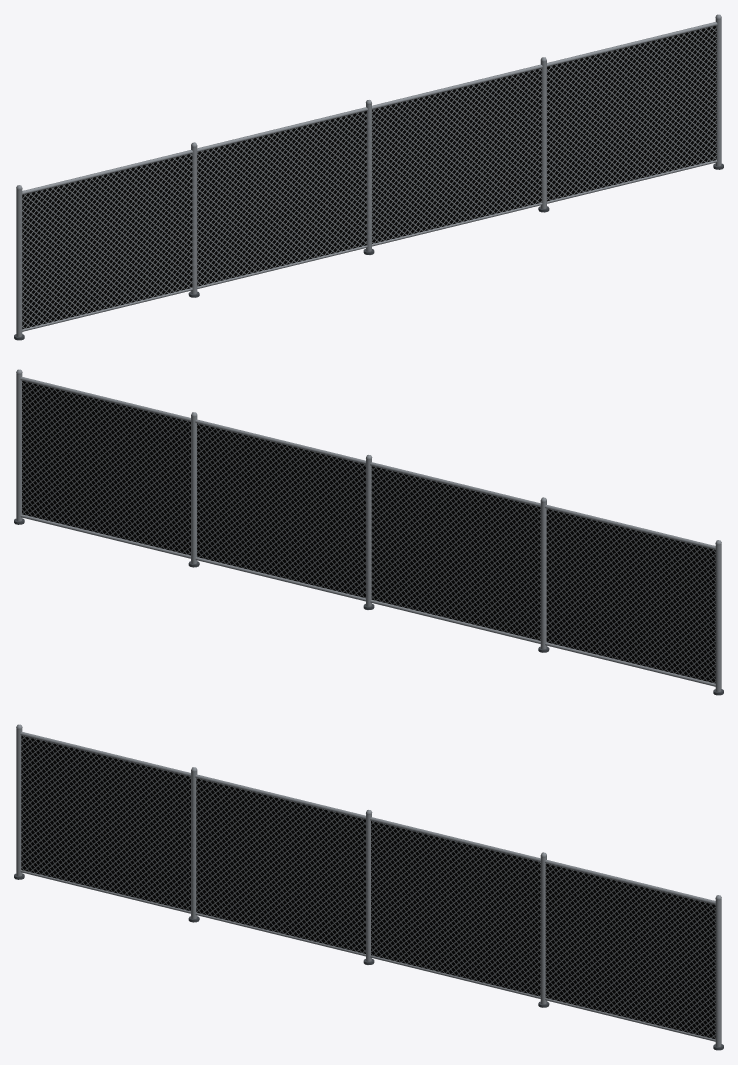
The model's file is alambrado.glb.
The picture shows the model from 3 angles, top to bottom: view 1: azimuth 30°, elevation 25°; view 2: azimuth 150°, elevation 25°; view 3: azimuth 330°, elevation 25°; orthographic projection.
Visible parts, largest first — view 1: Tela, Travessas, Postes; view 2: Tela, Travessas, Postes; view 3: Tela, Travessas, Postes.
Part boxes in pixels (x1,y1,x2,y2): Tela: (22,25,716,329); Travessas: (22,22,717,331); Postes: (14,14,723,340); Tela: (22,381,715,683); Travessas: (20,377,715,686); Postes: (14,369,723,695); Tela: (21,735,715,1039); Travessas: (20,732,715,1041); Postes: (14,724,723,1050).
Bounding box in the file's own units: 12.16 × 2.51 × 0.1522.
Materials: 3 (1 with a texture image).
